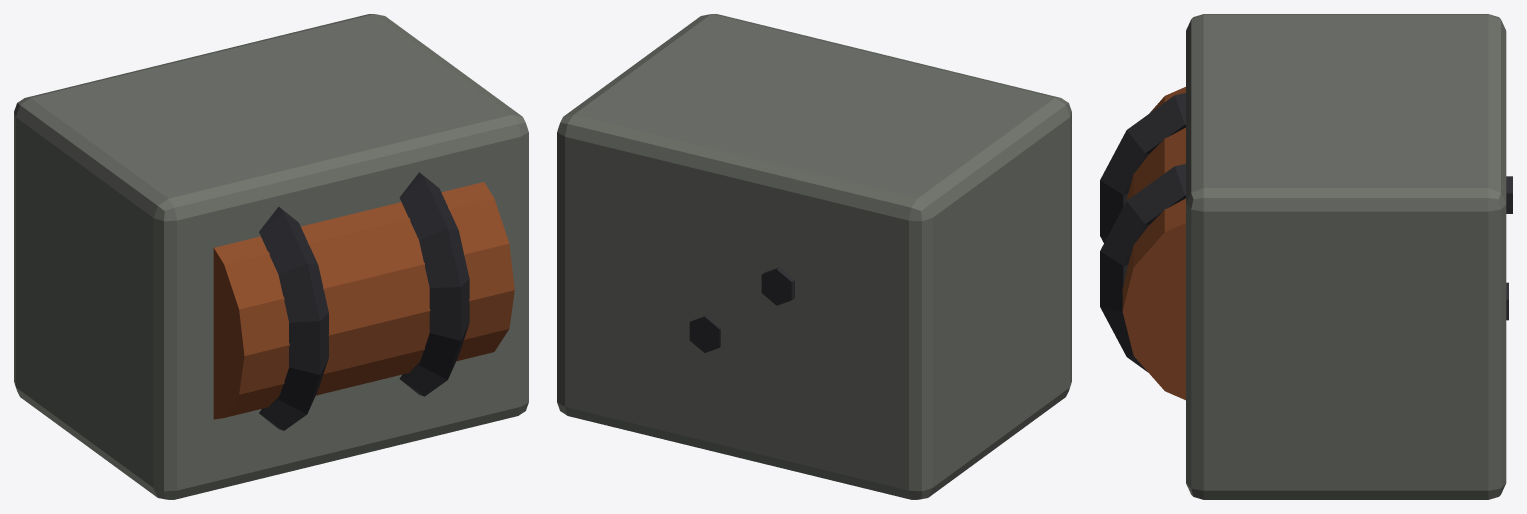
Rendered from mo_ablative.glb.
The picture shows the model from 3 angles, left to right: view 1: azimuth 30°, elevation 25°; view 2: azimuth 150°, elevation 25°; view 3: azimuth 270°, elevation 25°; orthographic projection. The views are drawn at different scales.
Visible parts, largest first — view 1: mo_ablative; view 2: mo_ablative; view 3: mo_ablative.
Boxes of the visible parts, x1,y1,x2,y2 form: mo_ablative: (14, 14, 528, 499); mo_ablative: (557, 14, 1071, 499); mo_ablative: (1100, 14, 1512, 499).
Size of the model in its own units: 0.1291 by 0.0995 by 0.1196.
